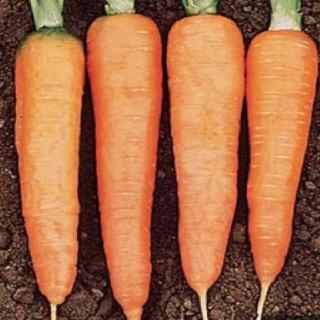carrot: (85, 15, 167, 318), (165, 14, 246, 304), (8, 26, 90, 312), (246, 25, 318, 303)
